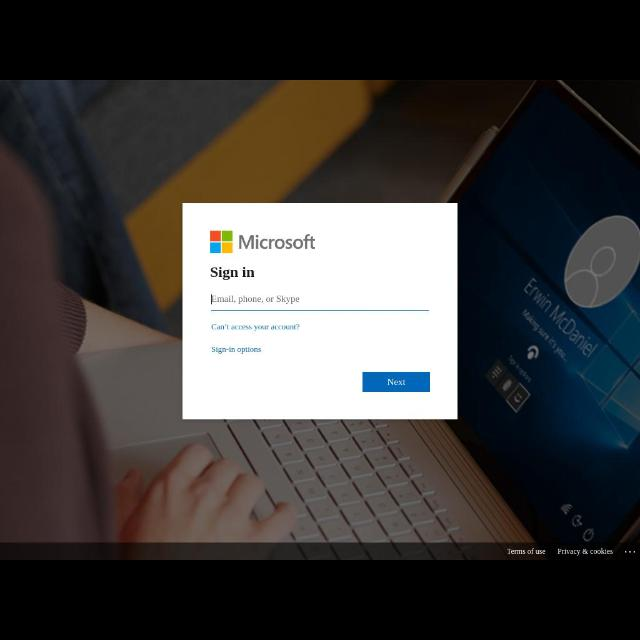backgroundimage: (1, 80, 640, 560)
icon: (624, 546, 636, 556)
image: (208, 228, 318, 254)
input: (210, 292, 428, 310)
text: (210, 322, 302, 332), (210, 296, 302, 304), (209, 266, 255, 280), (210, 344, 262, 356), (556, 548, 614, 556), (507, 546, 547, 556), (385, 376, 407, 386)
textbutton: (361, 371, 431, 393)
